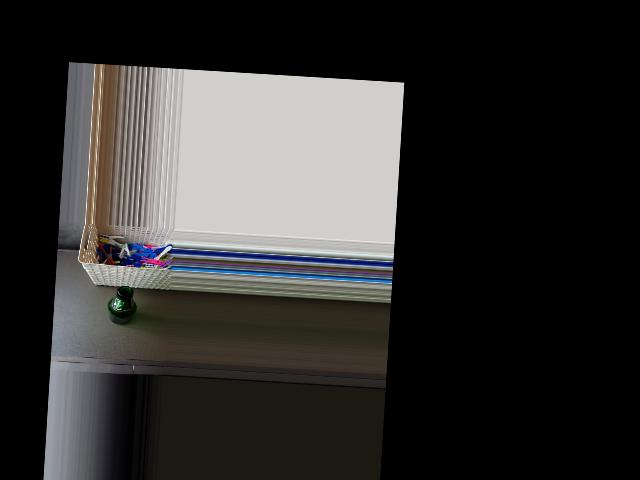beer: (106, 285, 138, 326)
